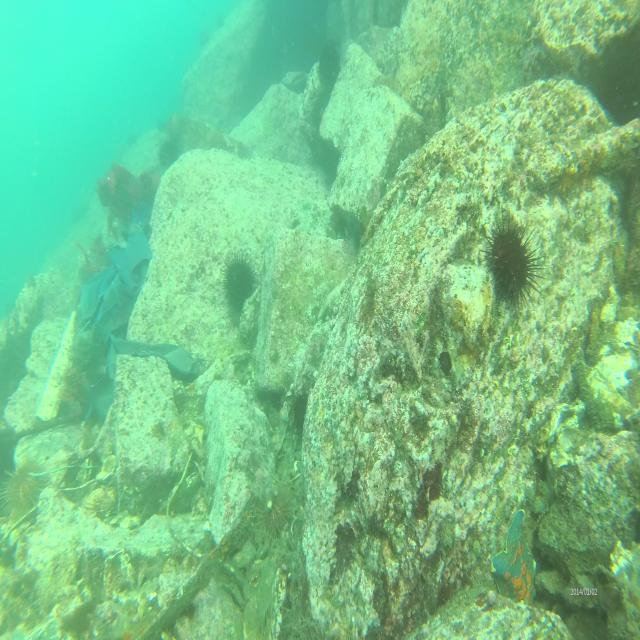echinus: (482, 214, 542, 314), (1, 452, 45, 522), (255, 481, 292, 543), (220, 251, 258, 308), (316, 39, 342, 88), (159, 137, 180, 171)
scallop: (81, 484, 117, 520)
starfish: (491, 506, 539, 610)
